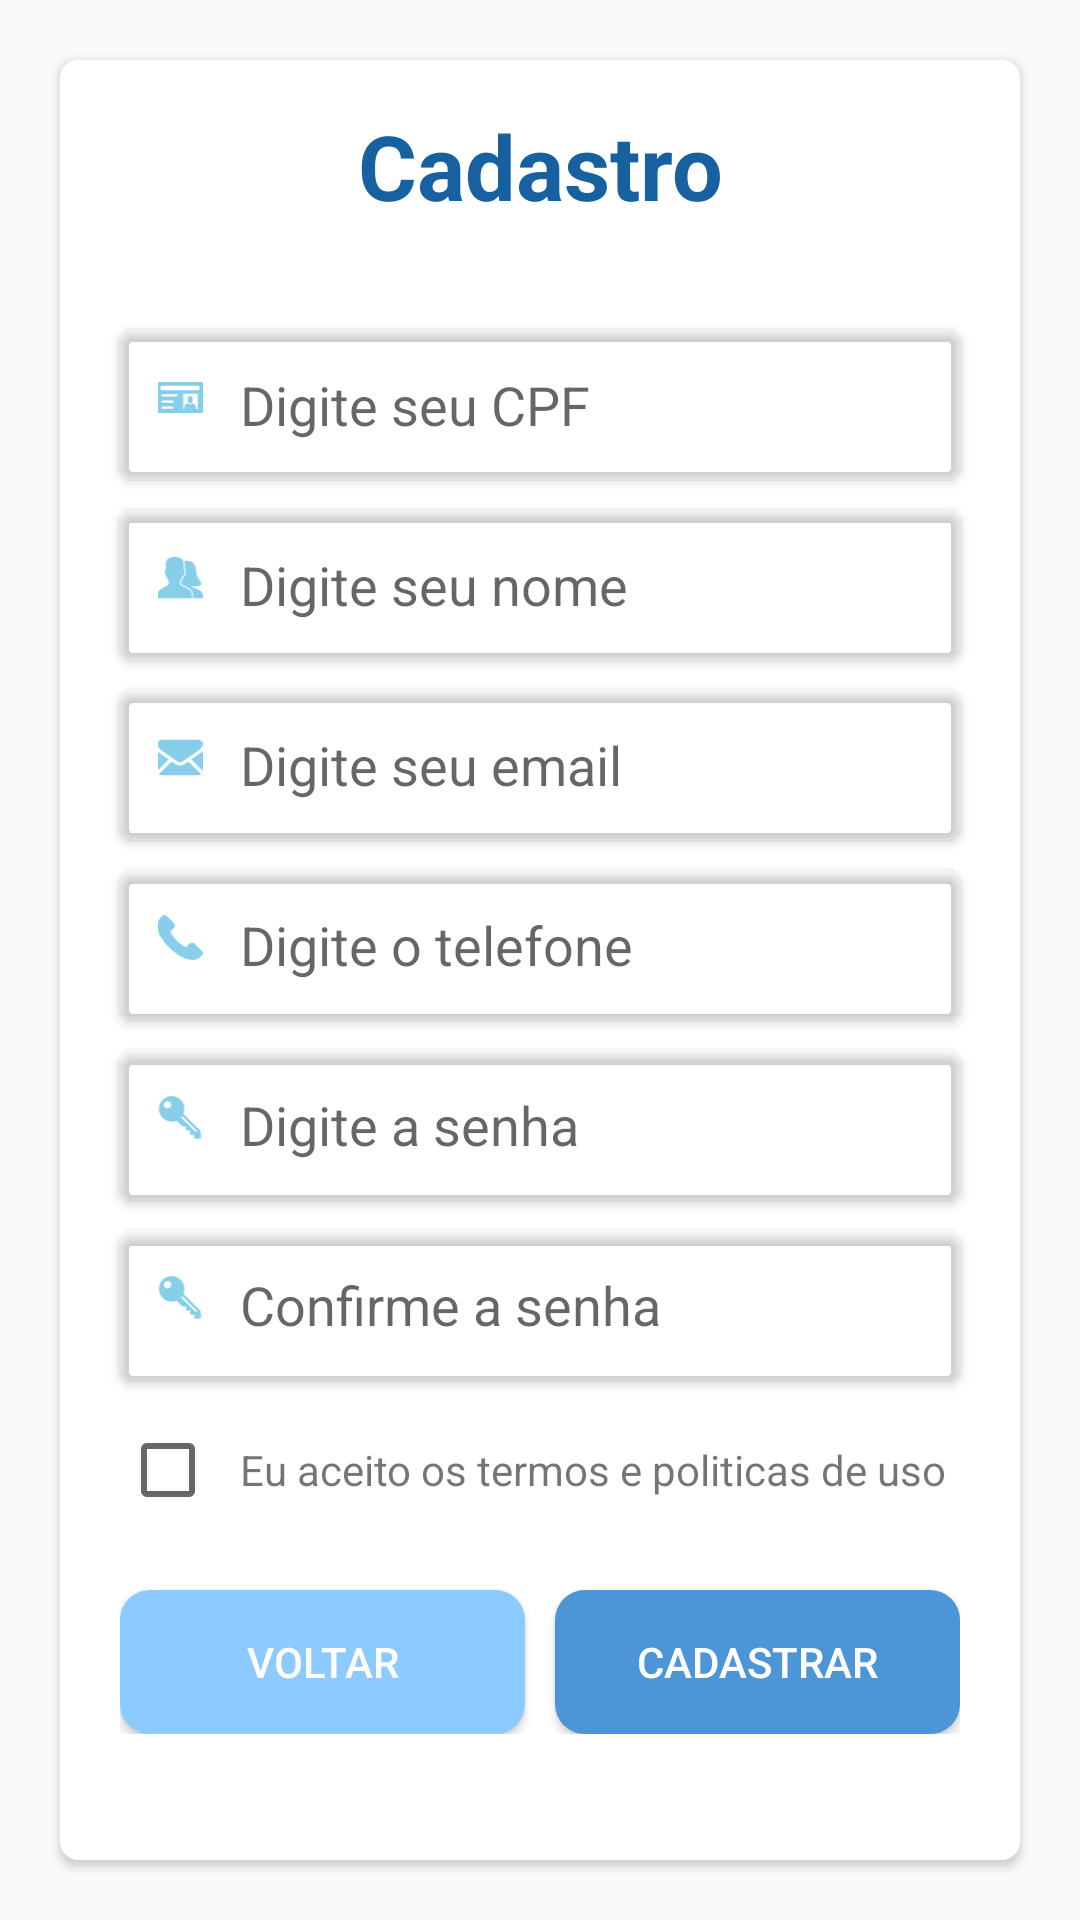

Named icons in this screenshot (1080w x 1920h) and their centers, (x=x, y=y):
document: (x=180, y=397)
pass: (x=180, y=1117), (x=180, y=1297)
tell: (x=180, y=937)
user: (x=180, y=578)
